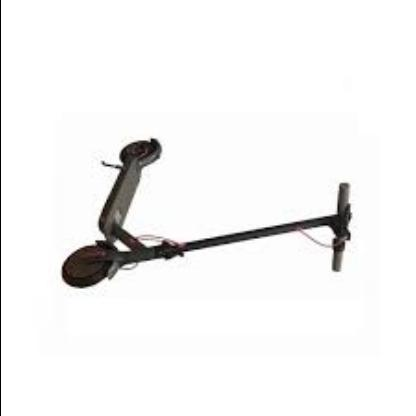bike: (62, 137, 352, 290)
